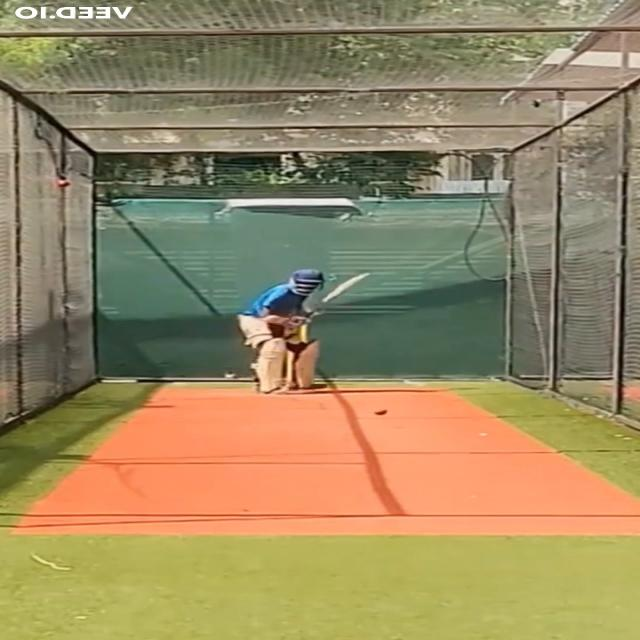ball: (372, 407, 388, 416)
